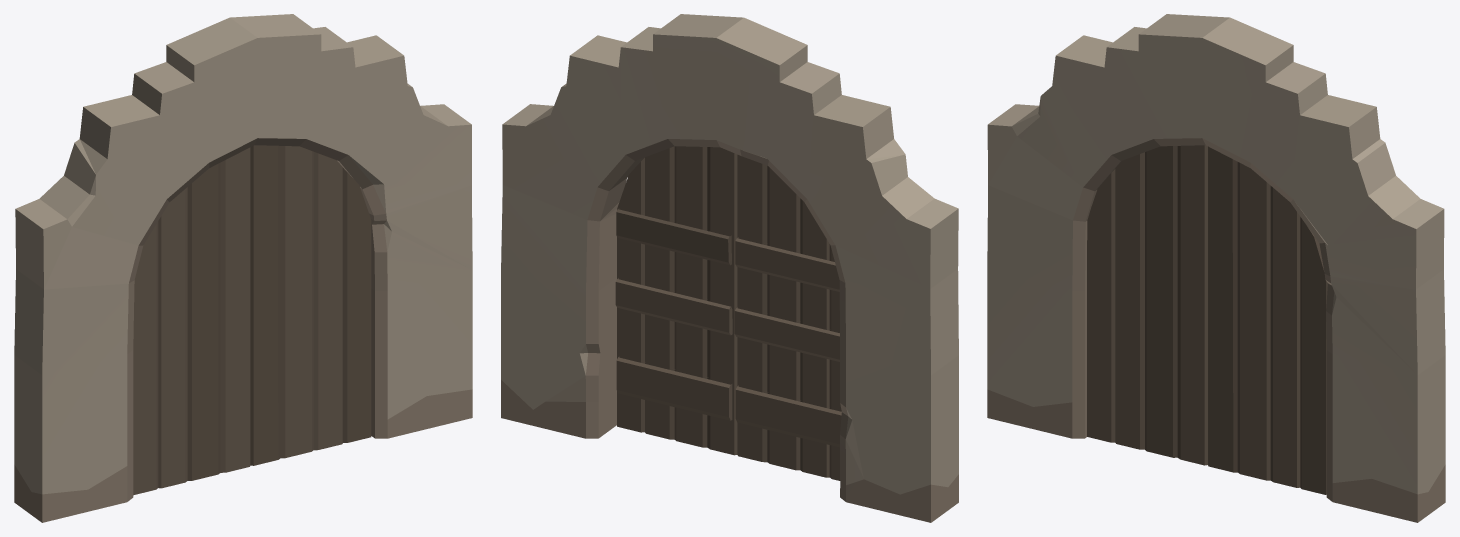
Rendered from SM_Bld_Mexican_Entrance_01.glb.
3 renders of one model, left to right at view 1: azimuth 30°, elevation 25°; view 2: azimuth 150°, elevation 25°; view 3: azimuth 330°, elevation 25°, orthographic.
Parts seen in each view (by area): view 1: SM_Bld_Mexican_Entrance_01; view 2: SM_Bld_Mexican_Entrance_01; view 3: SM_Bld_Mexican_Entrance_01.
Part boxes in pixels (x1,y1,x2,y2): SM_Bld_Mexican_Entrance_01: (14,14,472,522); SM_Bld_Mexican_Entrance_01: (501,14,958,522); SM_Bld_Mexican_Entrance_01: (987,14,1445,522).
Bounding box in the file's own units: 4.35 × 4.18 × 0.5015.
3 materials, 3 textured.
